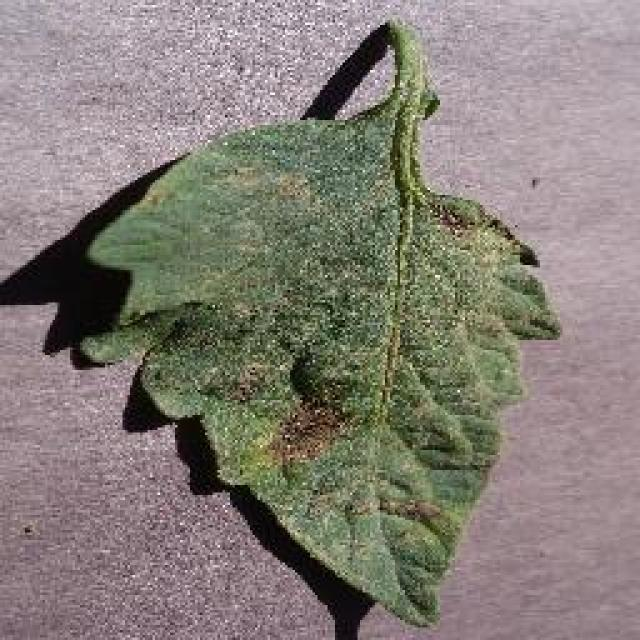Tomato___Early_blight: (72, 21, 570, 628)
